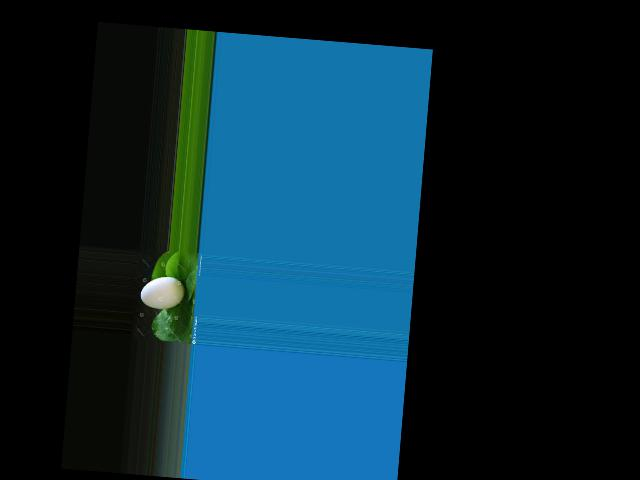egg: (139, 274, 186, 310)
